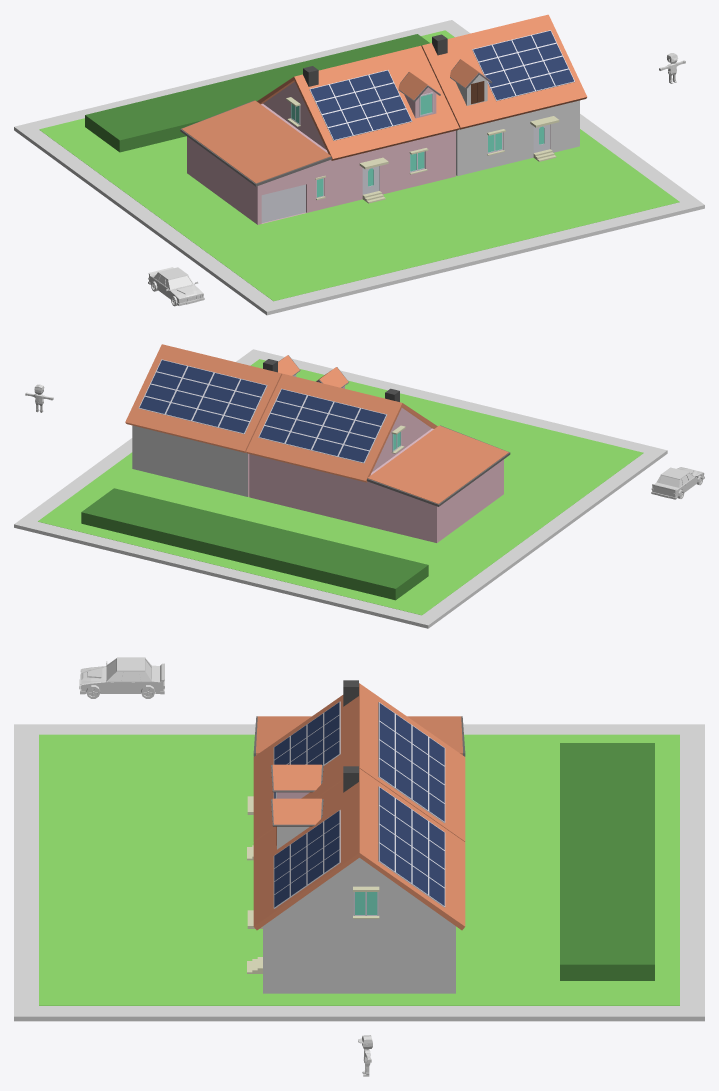
File: maison_moderne.fbx
3 views of the same model, one above another, from view 1: azimuth 30°, elevation 25°; view 2: azimuth 150°, elevation 25°; view 3: azimuth 270°, elevation 25° (orthographic). The views are drawn at different scales.
Parts seen in each view (by area): view 1: jardin_sol, Cube.001, maison1, maison2, garage, jardin, plaque_solaire.001, plaque_solaire.002, Cube.004; view 2: jardin_sol, Cube.001, jardin, maison1, garage, maison2, plaque_solaire, solar_panel.001, Cube.004; view 3: jardin_sol, maison2, Cube.001, jardin, maison1, solar_panel.001, plaque_solaire, plaque_solaire.002, plaque_solaire.001, Cube.004, garage.
Boxes of the visible parts, bbox=[...] form: jardin_sol: bbox=[39, 30, 679, 301]; Cube.001: bbox=[14, 20, 704, 315]; maison1: bbox=[257, 45, 459, 206]; maison2: bbox=[421, 14, 587, 176]; garage: bbox=[180, 100, 333, 224]; jardin: bbox=[85, 34, 429, 152]; plaque_solaire.001: bbox=[309, 70, 412, 140]; plaque_solaire.002: bbox=[472, 30, 574, 101]; Cube.004: bbox=[148, 267, 204, 305]; jardin_sol: bbox=[38, 359, 643, 615]; Cube.001: bbox=[14, 349, 667, 628]; jardin: bbox=[81, 488, 428, 600]; maison1: bbox=[246, 367, 437, 525]; garage: bbox=[365, 425, 510, 542]; maison2: bbox=[125, 344, 300, 496]; plaque_solaire: bbox=[138, 359, 267, 434]; solar_panel.001: bbox=[258, 388, 387, 463]; Cube.004: bbox=[651, 467, 704, 499]; jardin_sol: bbox=[39, 734, 679, 1005]; maison2: bbox=[247, 768, 465, 993]; Cube.001: bbox=[14, 724, 704, 1021]; jardin: bbox=[560, 743, 654, 980]; maison1: bbox=[247, 683, 465, 860]; solar_panel.001: bbox=[378, 702, 445, 823]; plaque_solaire: bbox=[378, 786, 445, 907]; plaque_solaire.002: bbox=[273, 810, 340, 908]; plaque_solaire.001: bbox=[273, 701, 340, 798]; Cube.004: bbox=[79, 657, 164, 694]; garage: bbox=[253, 716, 465, 756].
Size of the model in its own units: 3652 by 664 by 2600.
